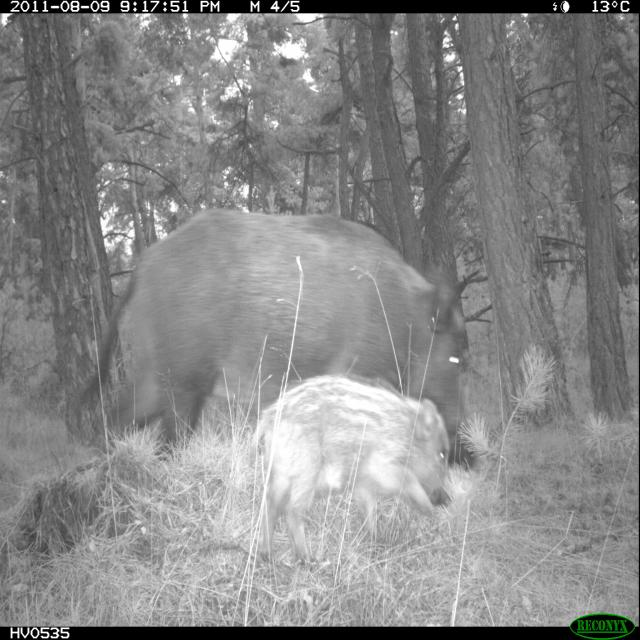boar: (44, 156, 510, 472), (242, 353, 468, 582)
